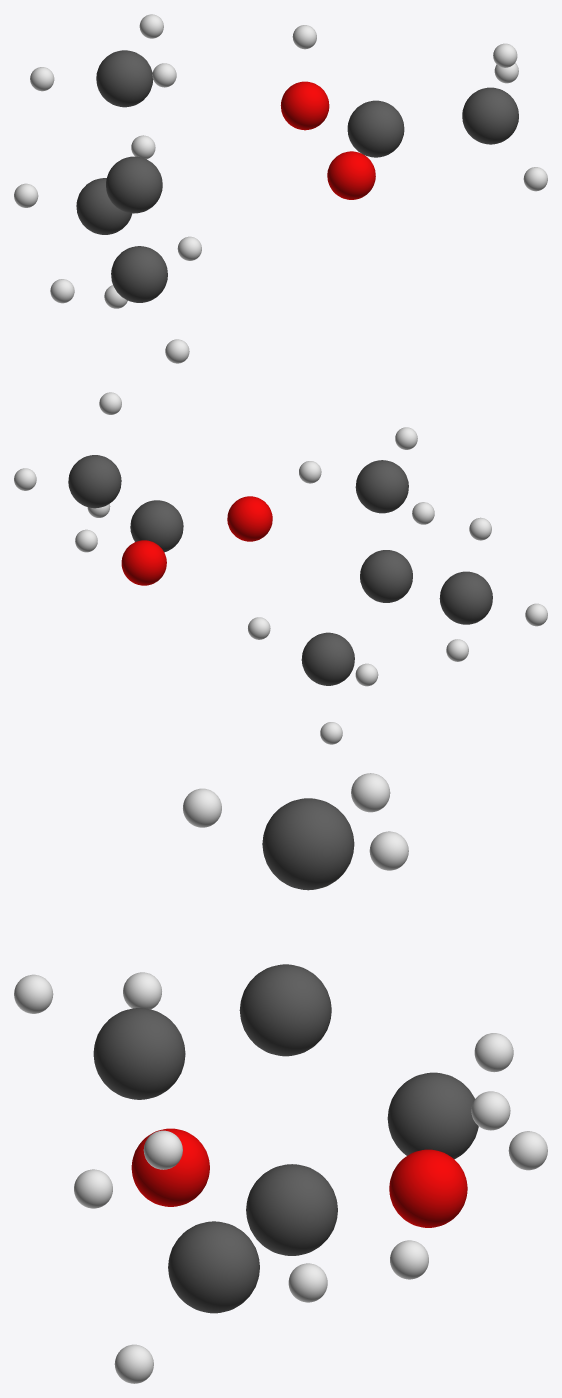
File: TertButylAcetate_SN1_stage2.fbx
3 views of the same model, one above another, from view 1: azimuth 30°, elevation 25°; view 2: azimuth 150°, elevation 25°; view 3: azimuth 270°, elevation 25° (orthographic). The views are drawn at different scales.
Parts seen in each view (by area): view 1: C01, C14, C10, C17, C06, C02, O16, O15, H07, H09, H11, H12 (+7 smaller); view 2: C17, C06, C02, C10, C01, C14, O16, O15, H05; view 3: C17, C01, C06, C10, C14, C02, O15, O16, H20, H12, H04, H07 (+9 smaller).
Boxes of the visible parts, x1,y1,x2,y2 form: C01: [106, 156, 162, 213]; C14: [347, 100, 404, 157]; C10: [96, 50, 153, 107]; C17: [462, 87, 518, 144]; C06: [111, 246, 167, 302]; C02: [76, 178, 132, 234]; O16: [327, 151, 375, 199]; O15: [280, 81, 329, 130]; H07: [165, 339, 189, 363]; H09: [50, 279, 74, 303]; H11: [152, 63, 176, 87]; H12: [139, 14, 163, 38]; C17: [68, 455, 121, 508]; C06: [439, 571, 492, 624]; C02: [301, 632, 354, 685]; C10: [355, 460, 408, 513]; C01: [360, 550, 412, 602]; C14: [130, 500, 183, 552]; O16: [227, 496, 272, 541]; O15: [121, 540, 166, 585]; H05: [355, 663, 378, 686]; C17: [168, 1221, 259, 1313]; C01: [239, 964, 331, 1056]; C06: [93, 1008, 185, 1099]; C10: [262, 798, 354, 890]; C14: [246, 1164, 337, 1255]; C02: [387, 1072, 478, 1159]; O15: [389, 1149, 467, 1227]; O16: [131, 1128, 209, 1206]; H20: [288, 1263, 327, 1302]; H12: [369, 831, 408, 870]; H04: [390, 1240, 428, 1279]; H07: [74, 1169, 112, 1208].
Size of the model in its own units: 784 by 427 by 435.
